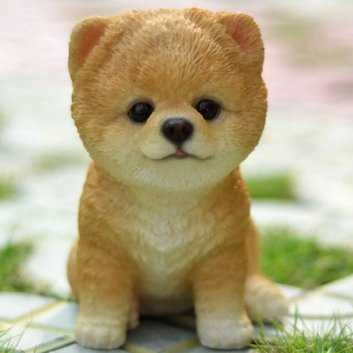pomeranian: (55, 6, 322, 351)
